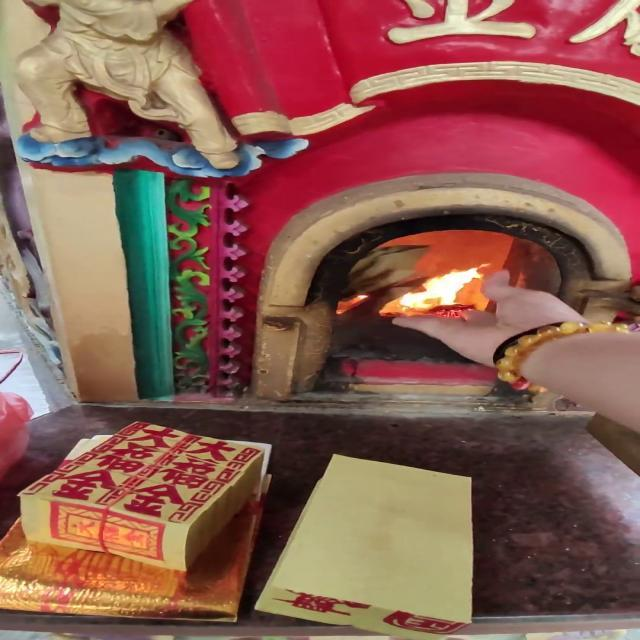Fire: (386, 261, 494, 316)
